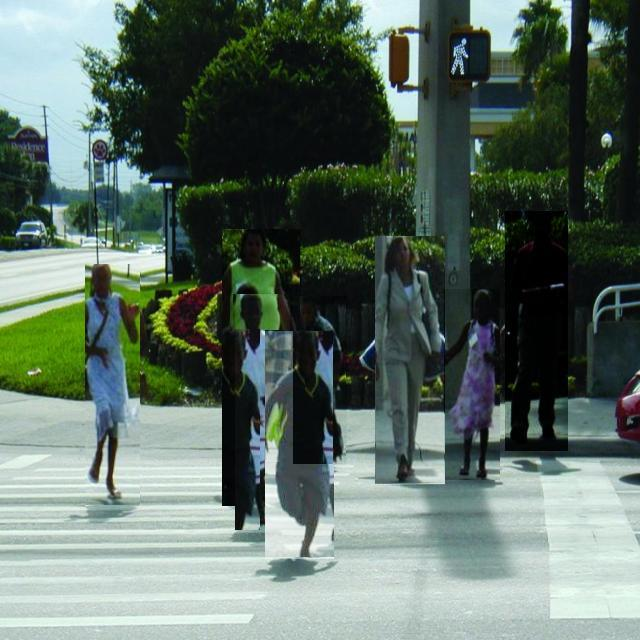without scooter: (223, 229, 302, 506), (375, 237, 445, 486), (265, 332, 334, 560), (506, 212, 568, 452), (86, 265, 142, 508), (236, 295, 290, 532), (444, 289, 500, 480), (294, 296, 348, 464)
